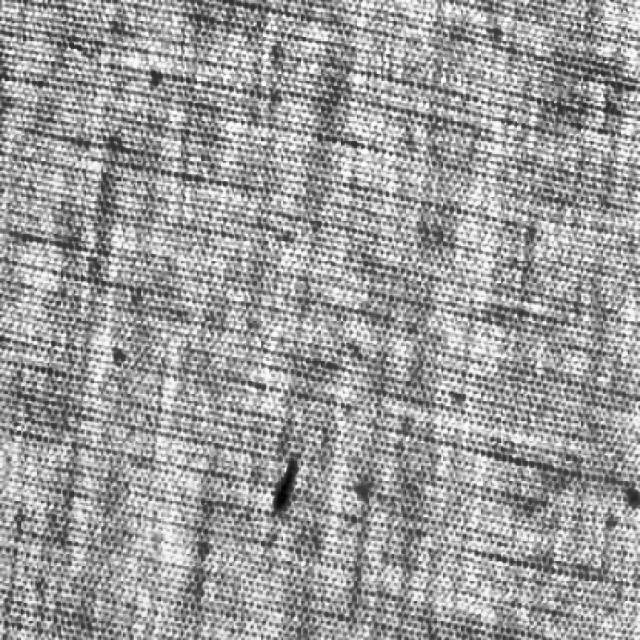oil_spot: (263, 447, 304, 520)
